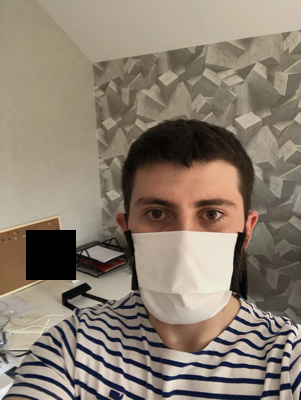with_mask: (128, 184, 248, 323)
